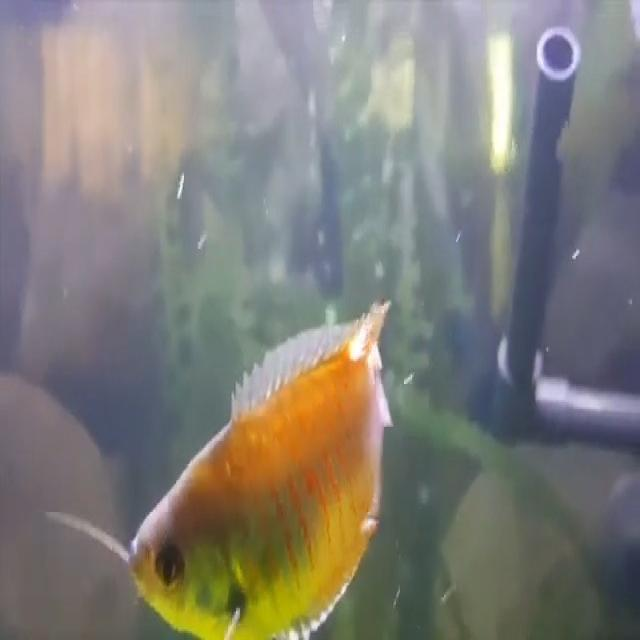fish: (128, 301, 394, 640)
